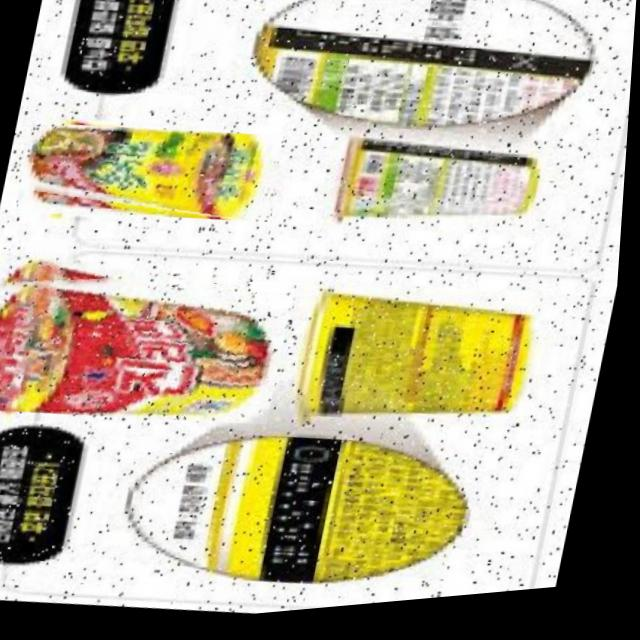Miscellaneous: (0, 234, 303, 451), (15, 105, 289, 247)
